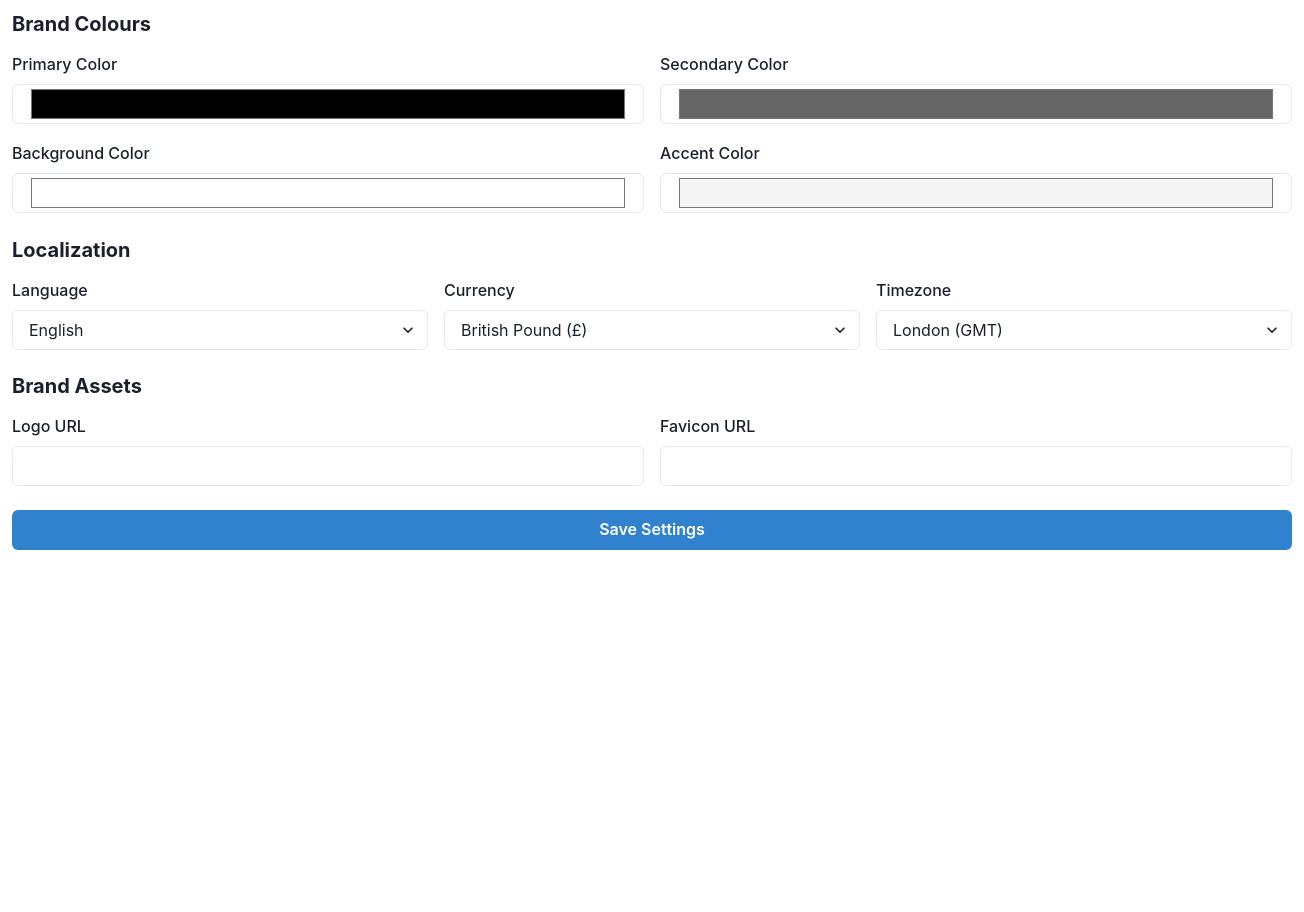
Test: SettingsForm Component › handles API errors
Click the button with test id "save-settings-button" at point(652, 530), box left=12, top=510, right=1292, bottom=550
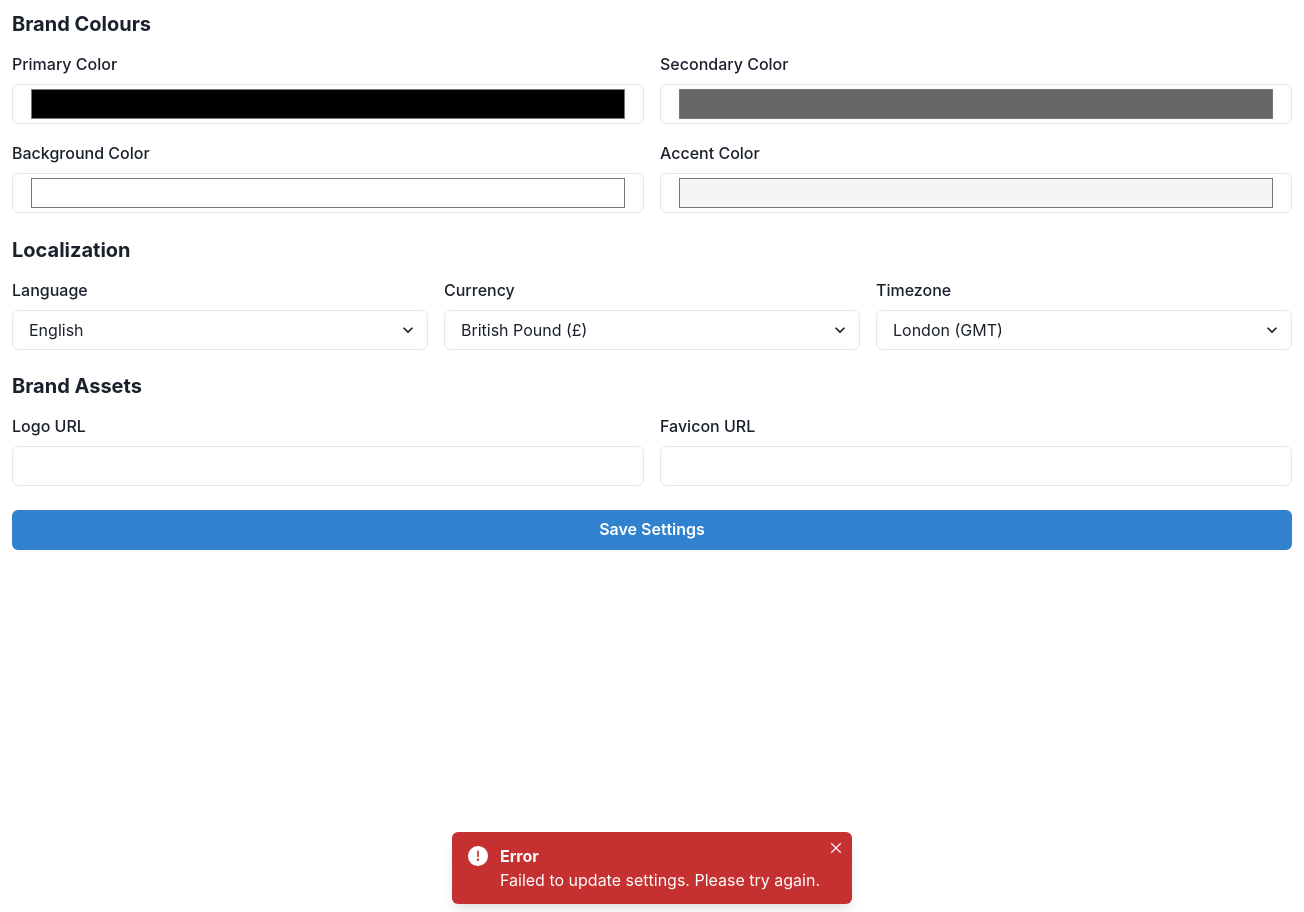
Result: the text "Failed to update settings. Please try again." is shown at left=500, top=868, right=820, bottom=892
